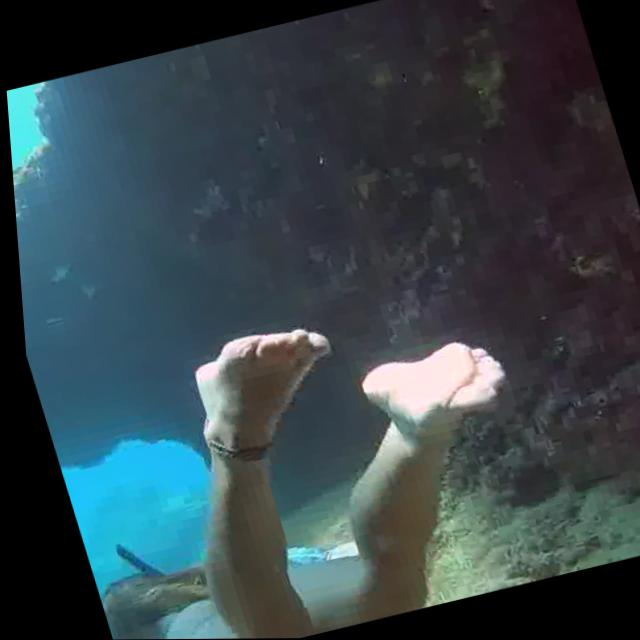human: (20, 267, 570, 640)
